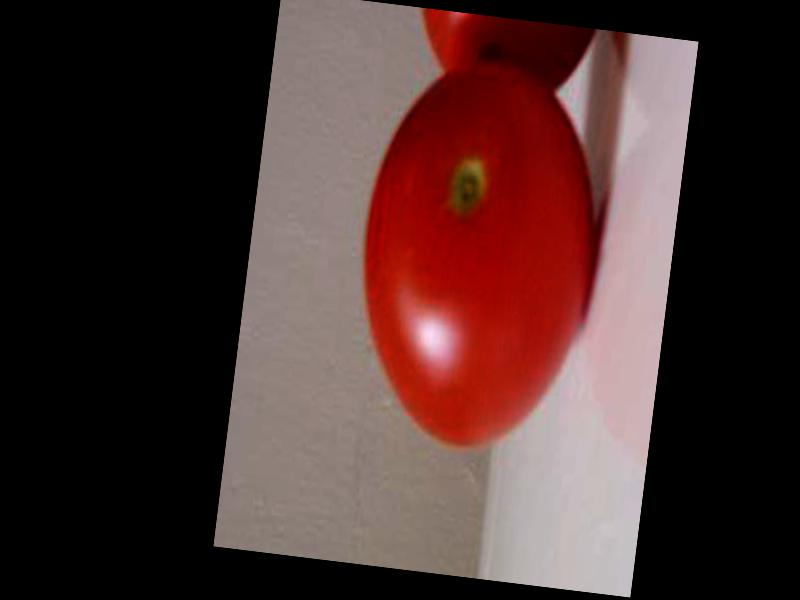Tomato: (342, 53, 613, 459)
